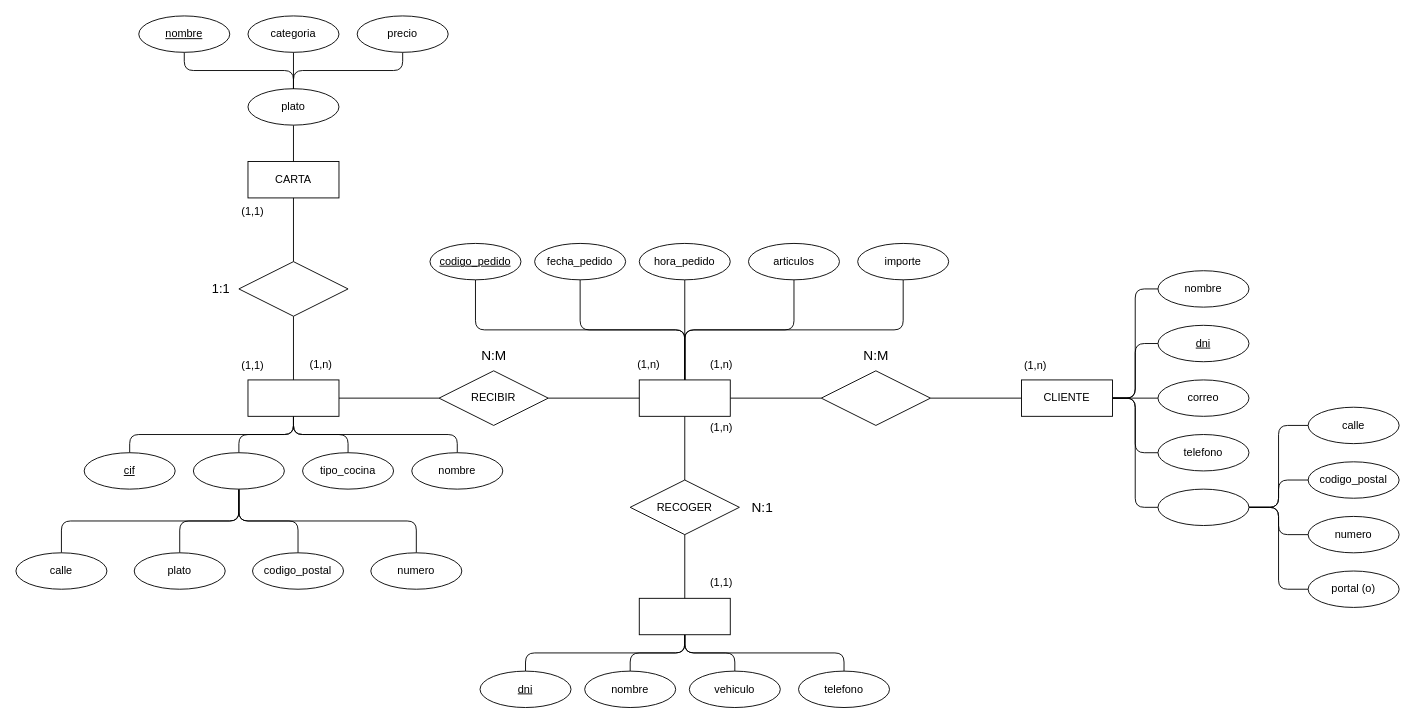
This 1415x723 diagram has some shape labels left out. Here are the shapes that lost their labels. From the top down, the centre of each, then its label:
pixel 293 288: TENER
pixel 293 397: RESTAURANTE
pixel 684 397: PEDIDO
pixel 875 397: REALIZAR
pixel 238 470: dirección
pixel 1203 507: direccion
pixel 684 616: REPARTIDOR
